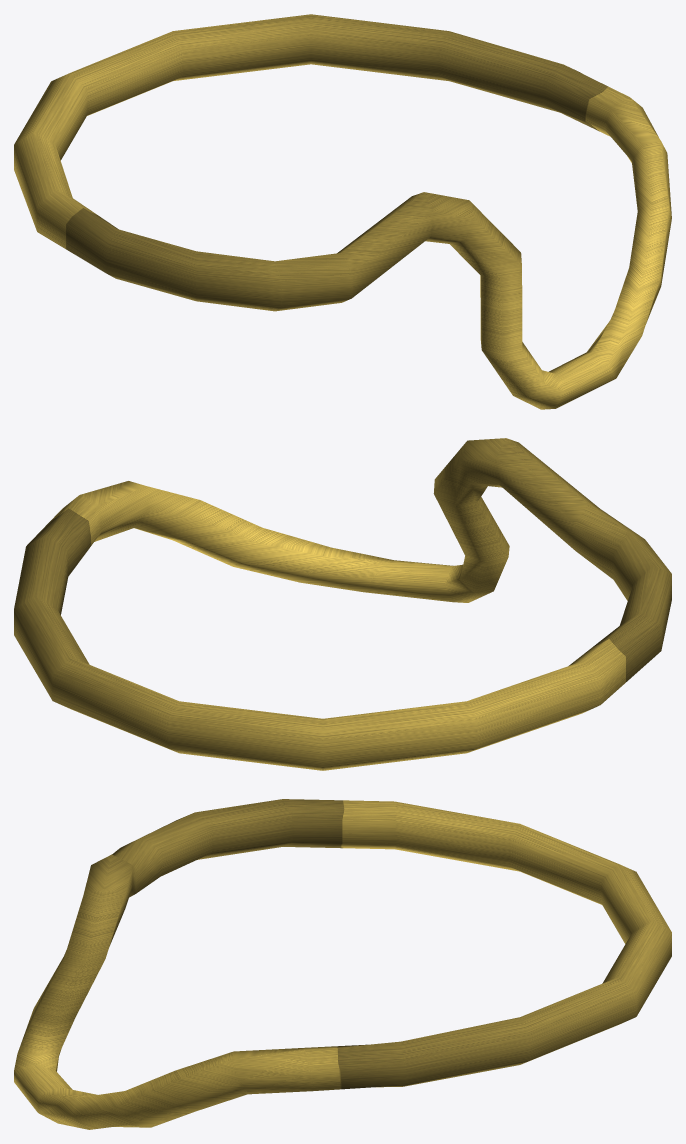
The model's file is Dawnwavering.fbx.
3 views of the same model, one above another, from view 1: azimuth 30°, elevation 25°; view 2: azimuth 150°, elevation 25°; view 3: azimuth 270°, elevation 25° (orthographic). The views are drawn at different scales.
Parts seen in each view (by area): view 1: Dawnwavering; view 2: Dawnwavering; view 3: Dawnwavering.
Boxes of the visible parts, x1,y1,x2,y2 form: Dawnwavering: [14, 14, 671, 409]; Dawnwavering: [14, 438, 671, 770]; Dawnwavering: [14, 799, 671, 1129].
Bounding box in the file's own units: 2.49 × 0.8768 × 2.65.
